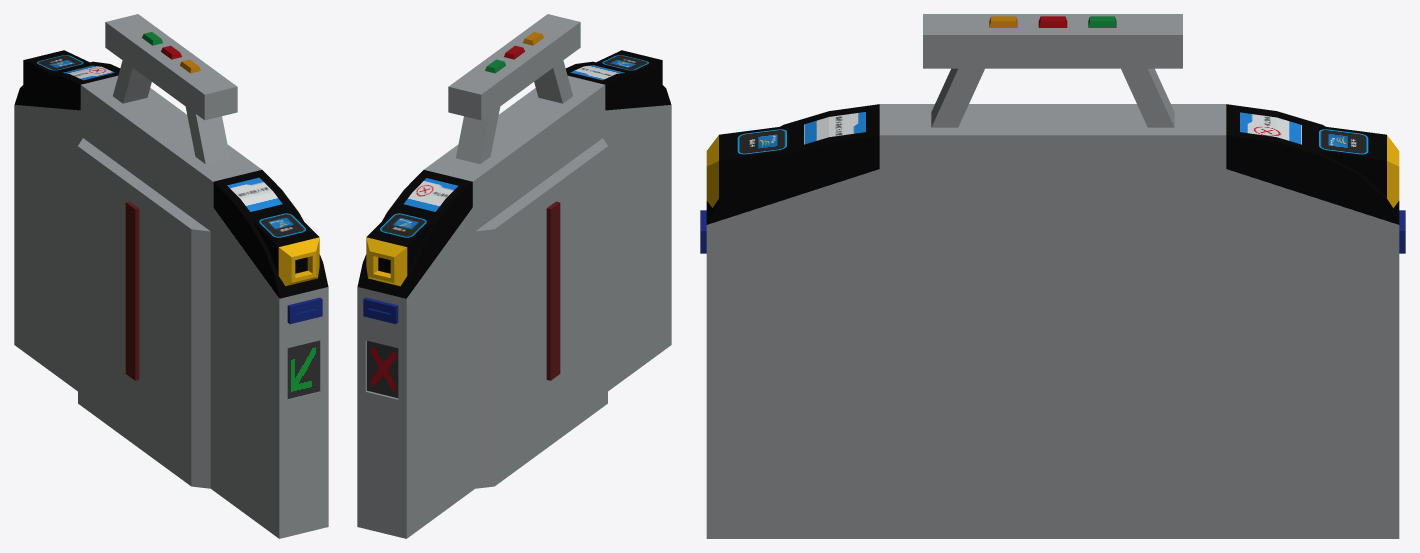
File: beijing_1_wide_r.obj
3 renders of one model, left to right at view 1: azimuth 30°, elevation 25°; view 2: azimuth 150°, elevation 25°; view 3: azimuth 270°, elevation 25°, orthographic. The views are drawn at different scales.
Parts seen in each view (by area): view 1: right; view 2: right; view 3: right.
Boxes of the visible parts, x1,y1,x2,y2 form: right: (14,14,328,538); right: (357,14,671,538); right: (700,14,1405,538).
Bounding box in the file's own units: 0.25 × 1.41 × 1.78.
Materials: 11 (11 with a texture image).
